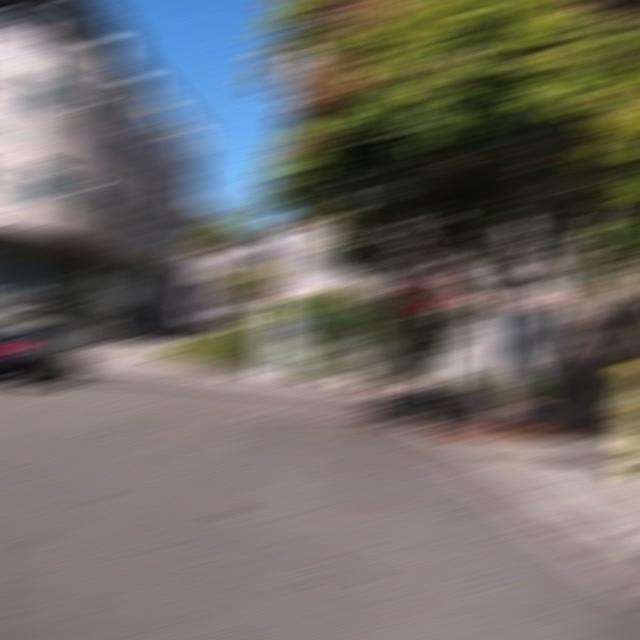stop_sign: (405, 273, 452, 311)
